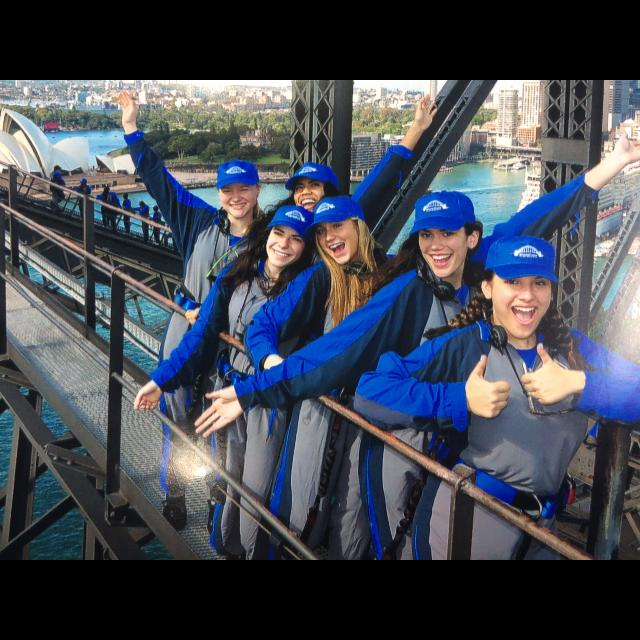head: (482, 238, 556, 342), (416, 210, 482, 280), (314, 197, 366, 266), (264, 205, 318, 269), (292, 164, 338, 222), (218, 164, 262, 218), (54, 165, 60, 173), (123, 193, 129, 200), (81, 180, 87, 186), (104, 187, 110, 193), (153, 206, 159, 212), (140, 202, 144, 208)
person: (231, 91, 443, 511), (109, 88, 285, 542), (87, 186, 123, 230), (48, 165, 68, 213), (76, 177, 92, 227), (122, 192, 136, 236), (138, 200, 152, 244), (151, 205, 163, 247)
